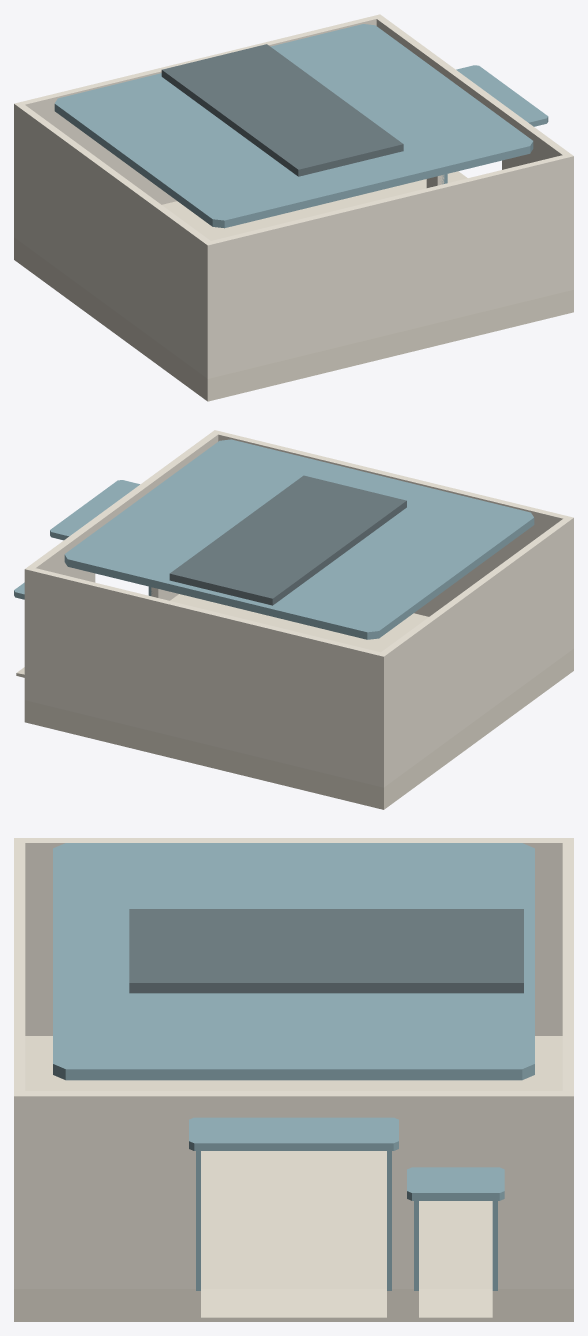
The model's file is Frontier_FieldWorkshop_ShadowProxy.glb.
3 views of the same model, one above another, from view 1: azimuth 30°, elevation 25°; view 2: azimuth 150°, elevation 25°; view 3: azimuth 270°, elevation 25° (orthographic). The views are drawn at different scales.
Visible parts, largest first — view 1: Frontier_FieldWorkshop_ShadowProxy / Structure, Frontier_FieldWorkshop_ShadowProxy / Roof, Frontier_FieldWorkshop_ShadowProxy / Foundation, Frontier_FieldWorkshop_ShadowProxy / Entrance modules; view 2: Frontier_FieldWorkshop_ShadowProxy / Structure, Frontier_FieldWorkshop_ShadowProxy / Roof, Frontier_FieldWorkshop_ShadowProxy / Foundation, Frontier_FieldWorkshop_ShadowProxy / Entrance modules; view 3: Frontier_FieldWorkshop_ShadowProxy / Roof, Frontier_FieldWorkshop_ShadowProxy / Structure, Frontier_FieldWorkshop_ShadowProxy / Foundation, Frontier_FieldWorkshop_ShadowProxy / Entrance modules.
Boxes of the visible parts, x1=… form: Frontier_FieldWorkshop_ShadowProxy / Structure: x1=14, y1=14, x2=573, y2=378; Frontier_FieldWorkshop_ShadowProxy / Roof: x1=54, y1=24, x2=533, y2=228; Frontier_FieldWorkshop_ShadowProxy / Foundation: x1=14, y1=179, x2=573, y2=401; Frontier_FieldWorkshop_ShadowProxy / Entrance modules: x1=424, y1=65, x2=548, y2=184; Frontier_FieldWorkshop_ShadowProxy / Structure: x1=24, y1=430, x2=573, y2=787; Frontier_FieldWorkshop_ShadowProxy / Roof: x1=64, y1=439, x2=534, y2=639; Frontier_FieldWorkshop_ShadowProxy / Foundation: x1=24, y1=594, x2=573, y2=809; Frontier_FieldWorkshop_ShadowProxy / Entrance modules: x1=14, y1=480, x2=152, y2=677; Frontier_FieldWorkshop_ShadowProxy / Roof: x1=53, y1=843, x2=534, y2=1080; Frontier_FieldWorkshop_ShadowProxy / Structure: x1=14, y1=838, x2=573, y2=1288; Frontier_FieldWorkshop_ShadowProxy / Foundation: x1=14, y1=1036, x2=573, y2=1321; Frontier_FieldWorkshop_ShadowProxy / Entrance modules: x1=189, y1=1117, x2=504, y2=1321.
Bounding box in the file's own units: 13.2 × 5.35 × 11.
